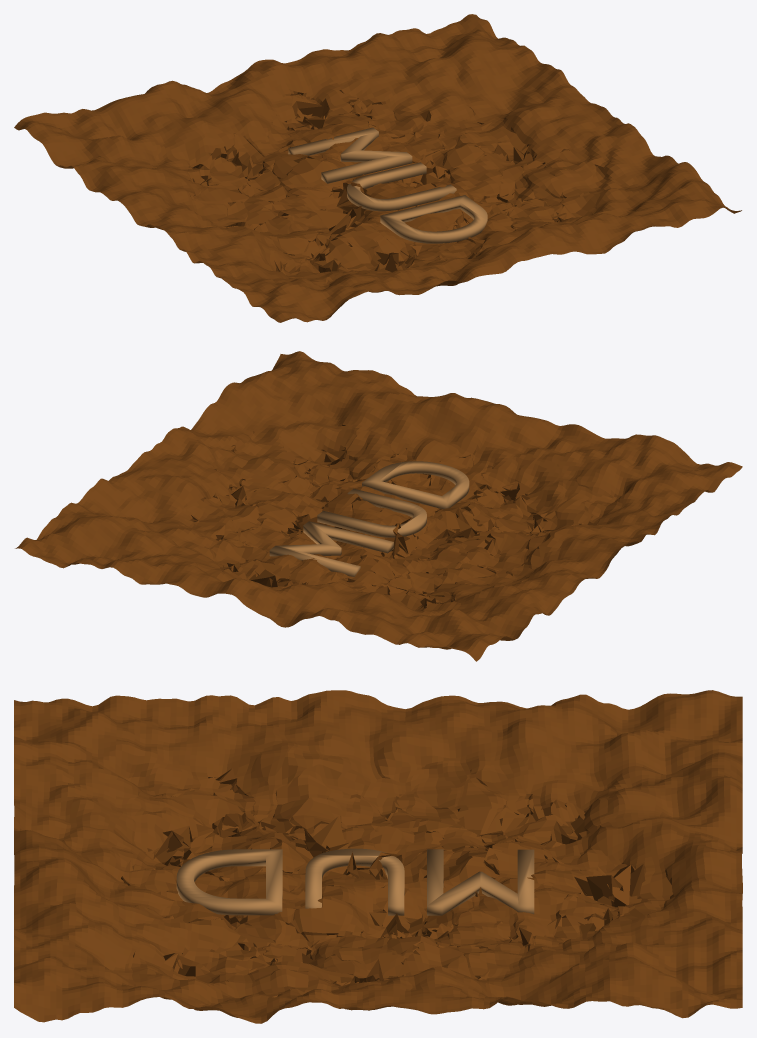
File: mud.fbx
The picture shows the model from 3 angles, top to bottom: view 1: azimuth 30°, elevation 25°; view 2: azimuth 150°, elevation 25°; view 3: azimuth 270°, elevation 25°; orthographic projection. The views are drawn at different scales.
Visible parts, largest first — view 1: Plane, Text; view 2: Plane, Text; view 3: Plane, Text.
Part boxes in pixels (x1,y1,x2,y2): Plane: (14, 14, 741, 322); Text: (288, 127, 487, 243); Plane: (15, 351, 742, 661); Text: (269, 461, 469, 576); Plane: (14, 690, 742, 1023); Text: (176, 848, 534, 915).
Bounding box in the file's own units: 346 × 40.24 × 346.
